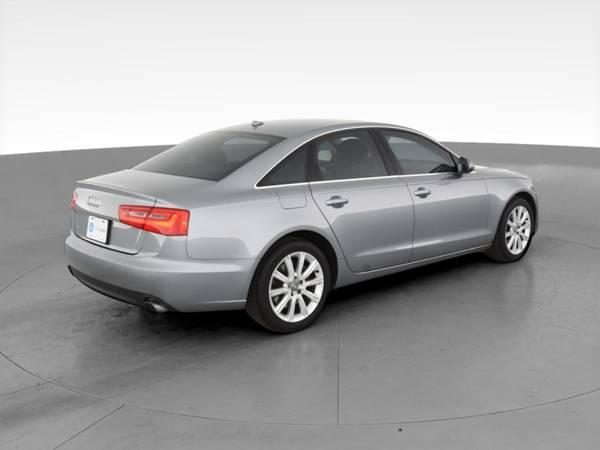Front_Fender: (481, 173, 539, 247)
Front_Right_Door: (401, 174, 490, 269)
Front_Right_Window: (368, 130, 480, 176)
Rear_Bumper: (62, 233, 258, 310)
Rear_Fender: (155, 139, 313, 261)
Rear_Right_Door: (308, 178, 416, 288)
Rear_Right_Window: (308, 129, 400, 183)
Rear_Windshield: (131, 131, 287, 183)
Right_Taillight: (118, 205, 190, 239)
Roof: (218, 117, 447, 187)
Tailgate: (70, 167, 216, 252)
Wheel: (249, 237, 334, 335), (495, 200, 537, 265)
